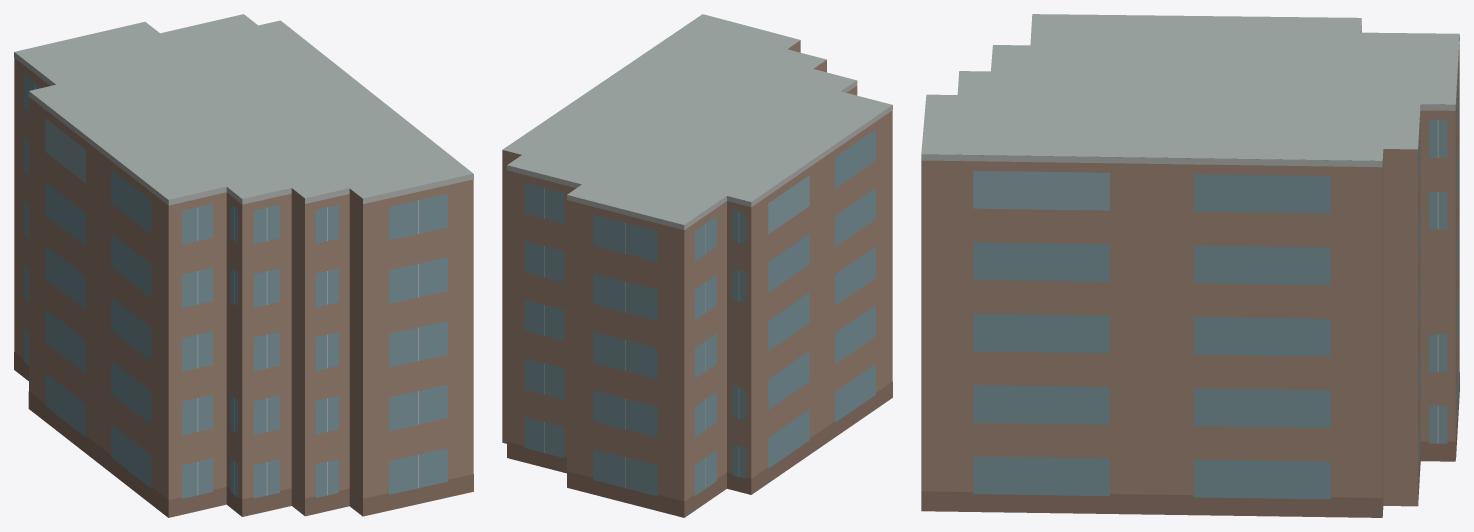
File: survey-upis-32917176.glb
3 renders of one model, left to right at view 1: azimuth 30°, elevation 25°; view 2: azimuth 150°, elevation 25°; view 3: azimuth 270°, elevation 25°, orthographic. The views are drawn at different scales.
Visible parts, largest first — view 1: survey-upis-32917176.tmp; view 2: survey-upis-32917176.tmp; view 3: survey-upis-32917176.tmp.
Part boxes in pixels (x1,y1,x2,y2): survey-upis-32917176.tmp: (14, 14, 473, 517); survey-upis-32917176.tmp: (502, 14, 892, 517); survey-upis-32917176.tmp: (921, 14, 1459, 517).
Size of the model in its own units: 12.19 by 13.8 by 18.88.
